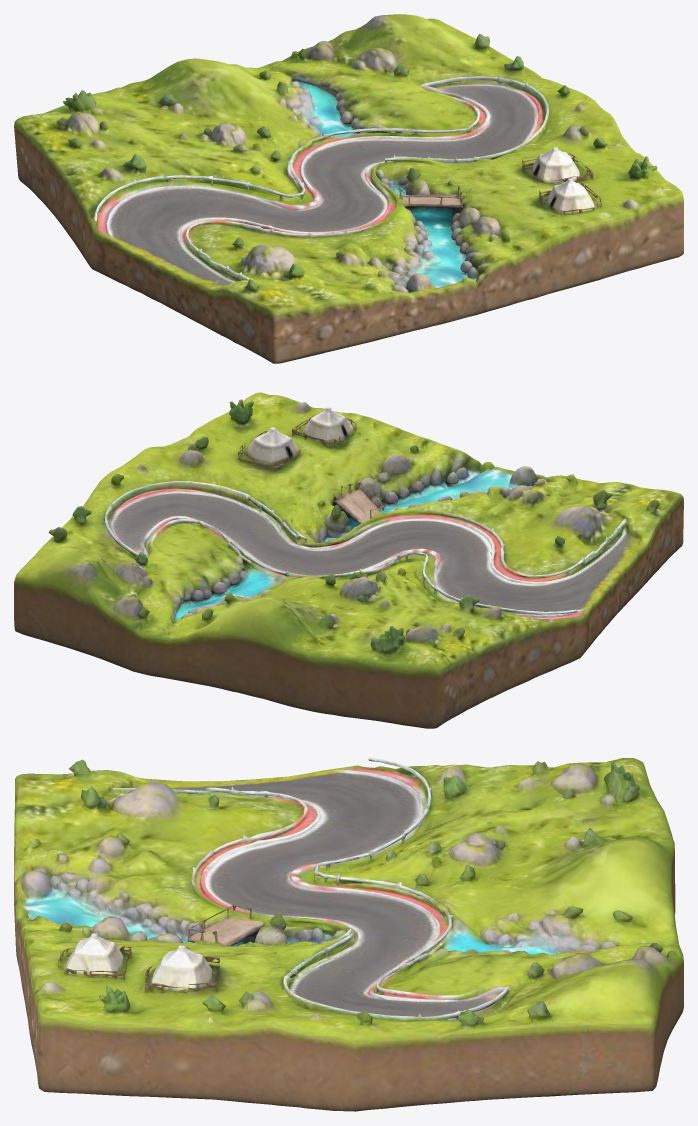
File: tibetan-grassland.glb
3 renders of one model, top to bottom at view 1: azimuth 30°, elevation 25°; view 2: azimuth 150°, elevation 25°; view 3: azimuth 270°, elevation 25°, orthographic. The views are drawn at different scales.
Parts seen in each view (by area): view 1: model; view 2: model; view 3: model.
Boxes of the visible parts, x1=… form: model: x1=14, y1=14, x2=683, y2=363; model: x1=14, y1=392, x2=683, y2=728; model: x1=14, y1=757, x2=683, y2=1111.
Size of the model in its own units: 36 by 5.91 by 34.31.
Materials: 1 (1 with a texture image).
